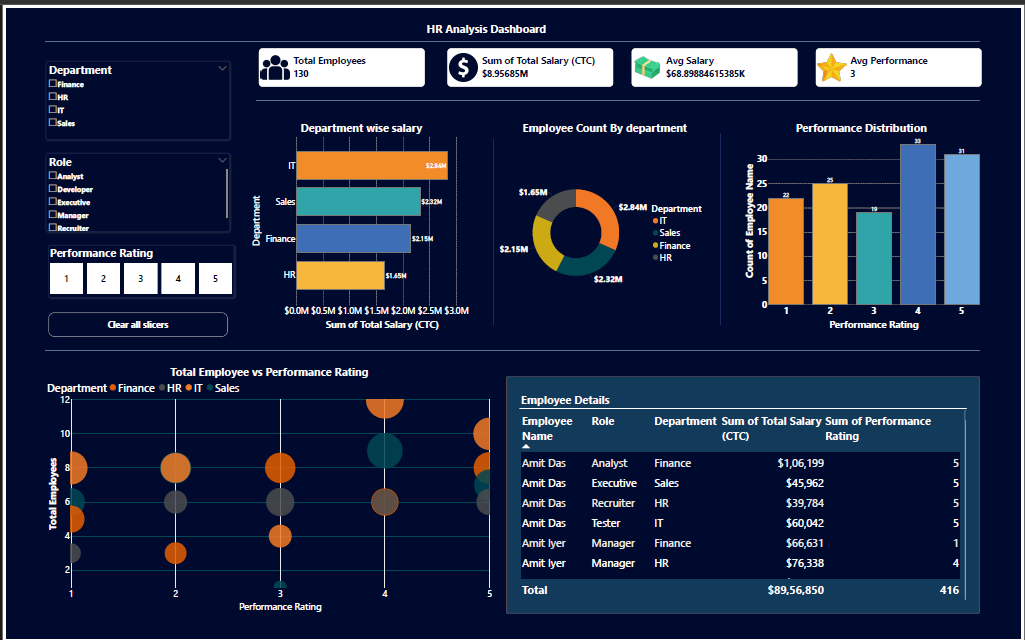

What the dashboard file says about the page in this screenshot:
{"tool":"powerbi","page":{"name":"HR","canvas":[8400,4600],"ordinal":1},"visuals":[{"type":"textbox","title":"HR Analysis Dashboard","box":[3528,96,1344,96],"z":0},{"type":"shape","box":[288,192,7776,96],"z":1000},{"type":"clusteredBarChart","title":"Department wise salary ","fields":{"Category":["HR_Data.Department"],"Y":["Sum(HR_Data.Total Salary (CTC))"]},"box":[1728,864,2208,1536],"z":2000},{"type":"shape","box":[1824,672,6240,96],"z":3000},{"type":"donutChart","title":"Employee Count By department","fields":{"Category":["HR_Data.Department"],"Y":["Sum(HR_Data.Total Salary (CTC))"]},"box":[4128,864,1632,1536],"z":4000},{"type":"clusteredColumnChart","title":"Performance Distribution","fields":{"Category":["HR_Data.Performance Rating"],"Y":["CountNonNull(HR_Data.Employee Name)"]},"box":[6048,864,2016,1536],"z":5000},{"type":"scatterChart","title":"Total Employee vs Performance Rating","fields":{"Size":["Sum(HR_Data.Total Salary (CTC))"],"Series":["HR_Data.Department"],"X":["HR_Data.Performance Rating"],"Y":["HR_Data.Total Employees"]},"box":[288,2592,3840,1824],"z":6000},{"type":"shape","box":[288,2400,7776,192],"z":7000},{"type":"cardVisual","fields":{"Data":["HR_Data.Total Employees"]},"box":[1824,336,1392,288],"z":8000},{"type":"cardVisual","fields":{"Data":["Sum(HR_Data.Total Salary (CTC))"]},"box":[3408,336,1392,288],"z":9000},{"type":"cardVisual","fields":{"Data":["HR_Data.Avg Salary"]},"box":[4992,336,1392,288],"z":10000},{"type":"cardVisual","fields":{"Data":["HR_Data.Avg Performance"]},"box":[6576,336,1392,288],"z":11000},{"type":"shape","box":[4224,2592,3840,1824],"z":12000},{"type":"slicer","fields":{"Values":["HR_Data.Role"]},"box":[294,1056,1344,576],"z":13000},{"type":"tableEx","title":"Employee Details","fields":{"Values":["HR_Data.Employee Name","HR_Data.Role","HR_Data.Department","Sum(HR_Data.Total Salary (CTC))","HR_Data.Performance Rating"]},"box":[4320,2688,3648,1632],"z":14000},{"type":"shape","box":[5760,864,192,1344],"z":15000},{"type":"advancedSlicerVisual","fields":{"Values":["HR_Data.Performance Rating"]},"box":[286,1728,1360,384],"z":16000},{"type":"slicer","fields":{"Values":["HR_Data.Department"]},"box":[294,384,1344,576],"z":17000},{"type":"actionButton","box":[294,2208,1344,192],"z":18000},{"type":"shape","box":[4032,960,192,1344],"z":19000}]}

Visuals, with their boxes on the page's 8400x4600 design canvas (x1, y1, x2, y2). These are canvas units, not pixel positions in the 1025x640 screenshot, which may show the page scaled, cropped or inside an application window:
"HR Analysis Dashboard" textbox: (3528, 96, 4872, 192)
shape: (288, 192, 8064, 288)
"Department wise salary " clusteredBarChart: (1728, 864, 3936, 2400)
shape: (1824, 672, 8064, 768)
"Employee Count By department" donutChart: (4128, 864, 5760, 2400)
"Performance Distribution" clusteredColumnChart: (6048, 864, 8064, 2400)
"Total Employee vs Performance Rating" scatterChart: (288, 2592, 4128, 4416)
shape: (288, 2400, 8064, 2592)
cardVisual - HR_Data.Total Employees: (1824, 336, 3216, 624)
cardVisual - Sum(HR_Data.Total Salary (CTC)): (3408, 336, 4800, 624)
cardVisual - HR_Data.Avg Salary: (4992, 336, 6384, 624)
cardVisual - HR_Data.Avg Performance: (6576, 336, 7968, 624)
shape: (4224, 2592, 8064, 4416)
slicer - HR_Data.Role: (294, 1056, 1638, 1632)
"Employee Details" tableEx: (4320, 2688, 7968, 4320)
shape: (5760, 864, 5952, 2208)
advancedSlicerVisual - HR_Data.Performance Rating: (286, 1728, 1646, 2112)
slicer - HR_Data.Department: (294, 384, 1638, 960)
actionButton: (294, 2208, 1638, 2400)
shape: (4032, 960, 4224, 2304)
